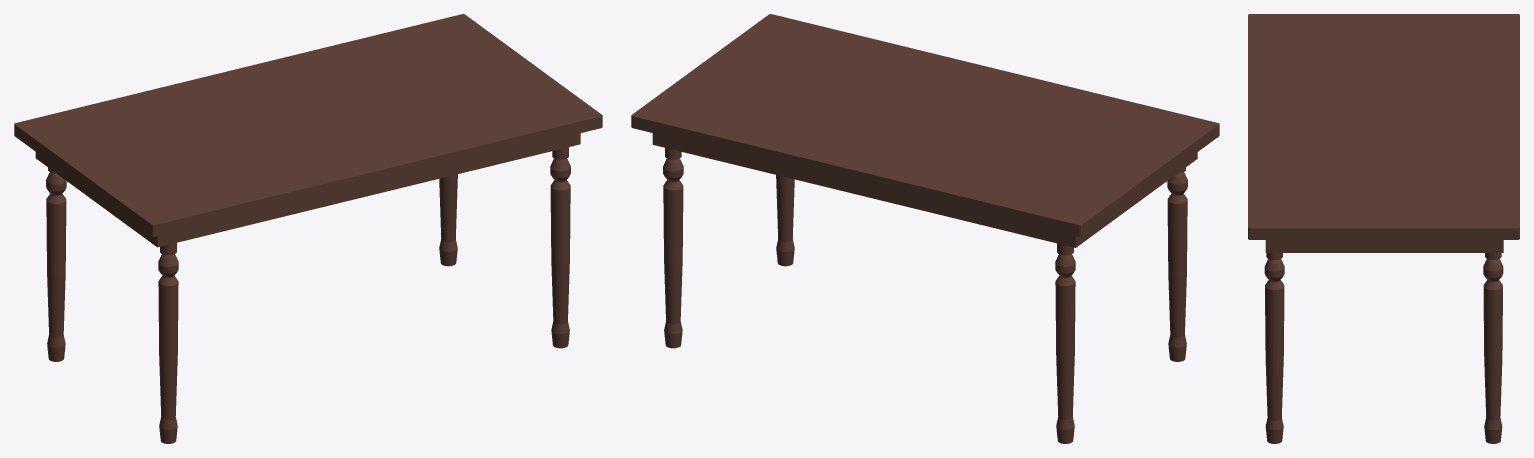
File: MesaJantar.fbx
3 renders of one model, left to right at view 1: azimuth 30°, elevation 25°; view 2: azimuth 150°, elevation 25°; view 3: azimuth 270°, elevation 25°, orthographic. The views are drawn at different scales.
Visible parts, largest first — view 1: Cube.001, Circle, Cube.002; view 2: Cube.001, Circle, Cube.002; view 3: Cube.001, Circle, Cube.002.
Boxes of the visible parts, <box> form: Cube.001: <box>14,14,602,237</box>; Circle: <box>46,147,570,443</box>; Cube.002: <box>35,133,580,247</box>; Cube.001: <box>631,14,1219,237</box>; Circle: <box>663,148,1187,443</box>; Cube.002: <box>652,133,1197,247</box>; Cube.001: <box>1248,14,1519,239</box>; Circle: <box>1264,253,1503,443</box>; Cube.002: <box>1265,240,1503,252</box>.
Size of the model in its own units: 250 by 123 by 134.
